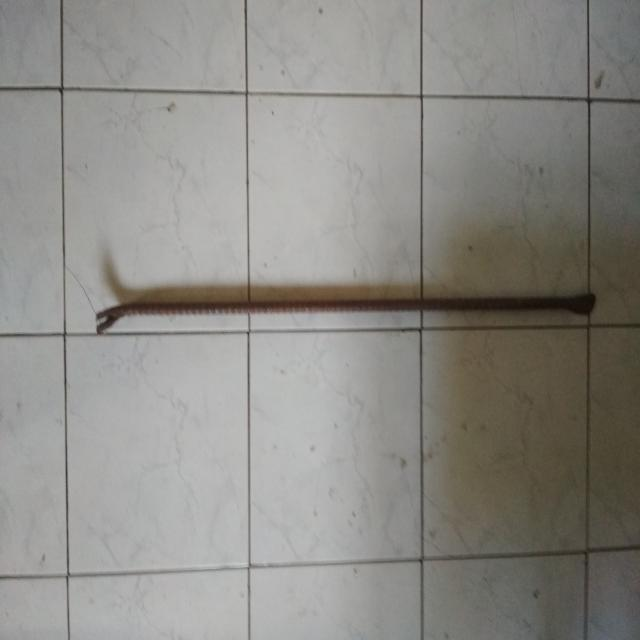Linggis: (100, 290, 597, 342)
